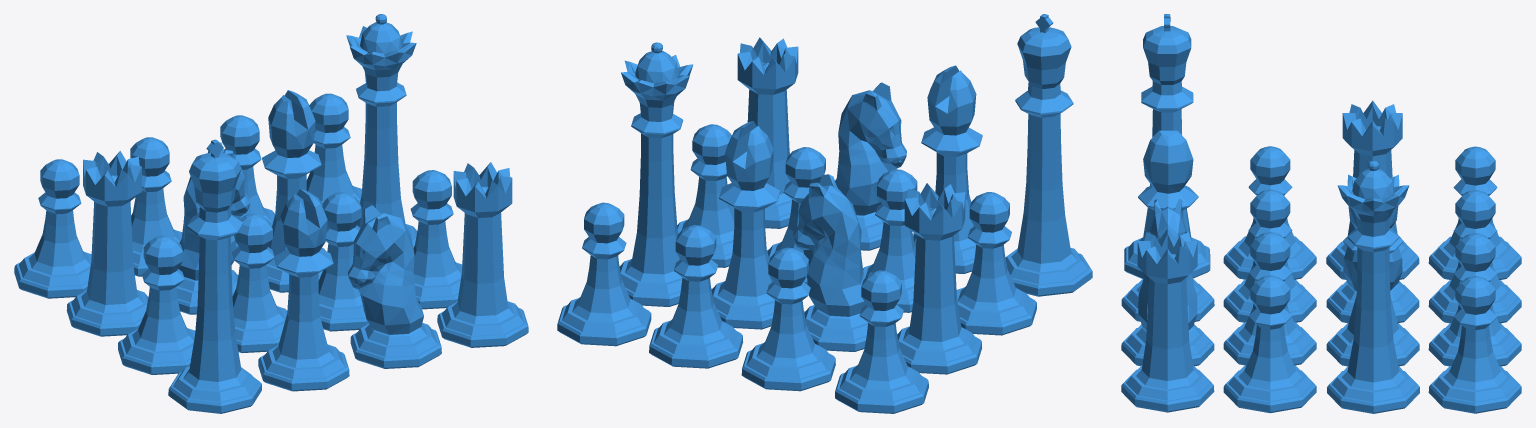
The model's file is Chess set.glb.
The picture shows the model from 3 angles, left to right: view 1: azimuth 30°, elevation 25°; view 2: azimuth 150°, elevation 25°; view 3: azimuth 270°, elevation 25°; orthographic projection. The views are drawn at different scales.
Bounding box in the file's own units: 0.0985 × 0.0681 × 0.0986.
